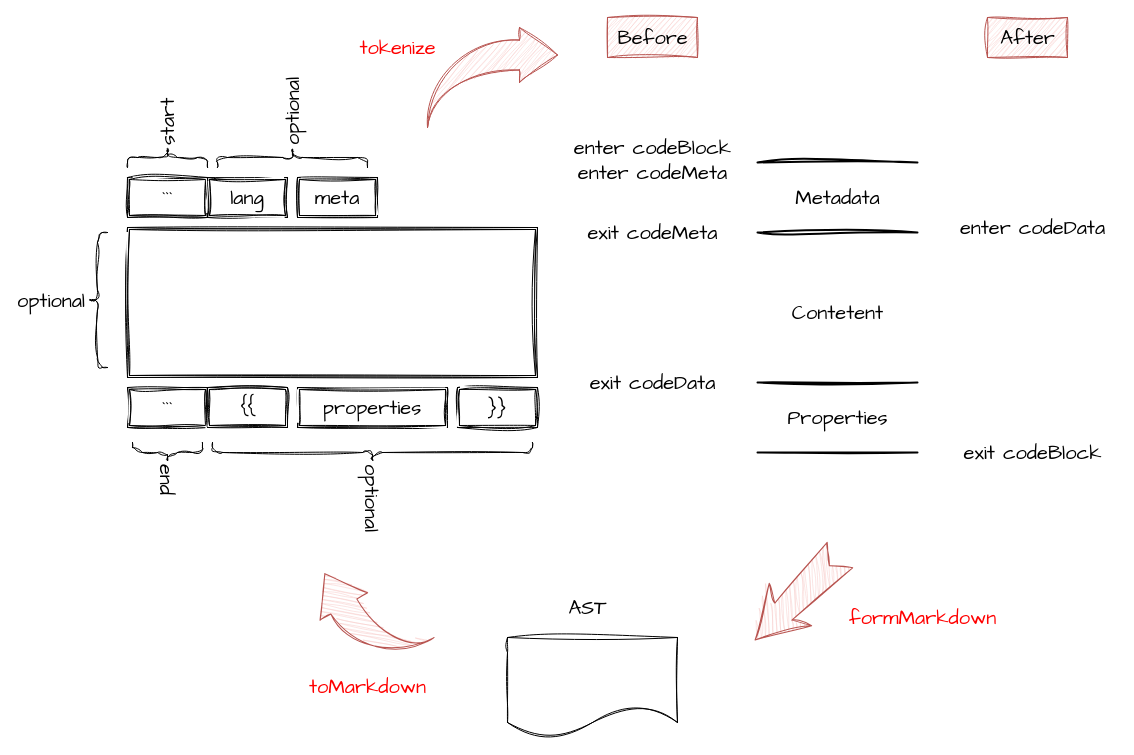
This 1134x755 diagram has some shape labels left out. Each missing label, with the centre of its shape:
code block: point 332,302
JSON Object: point 592,687
